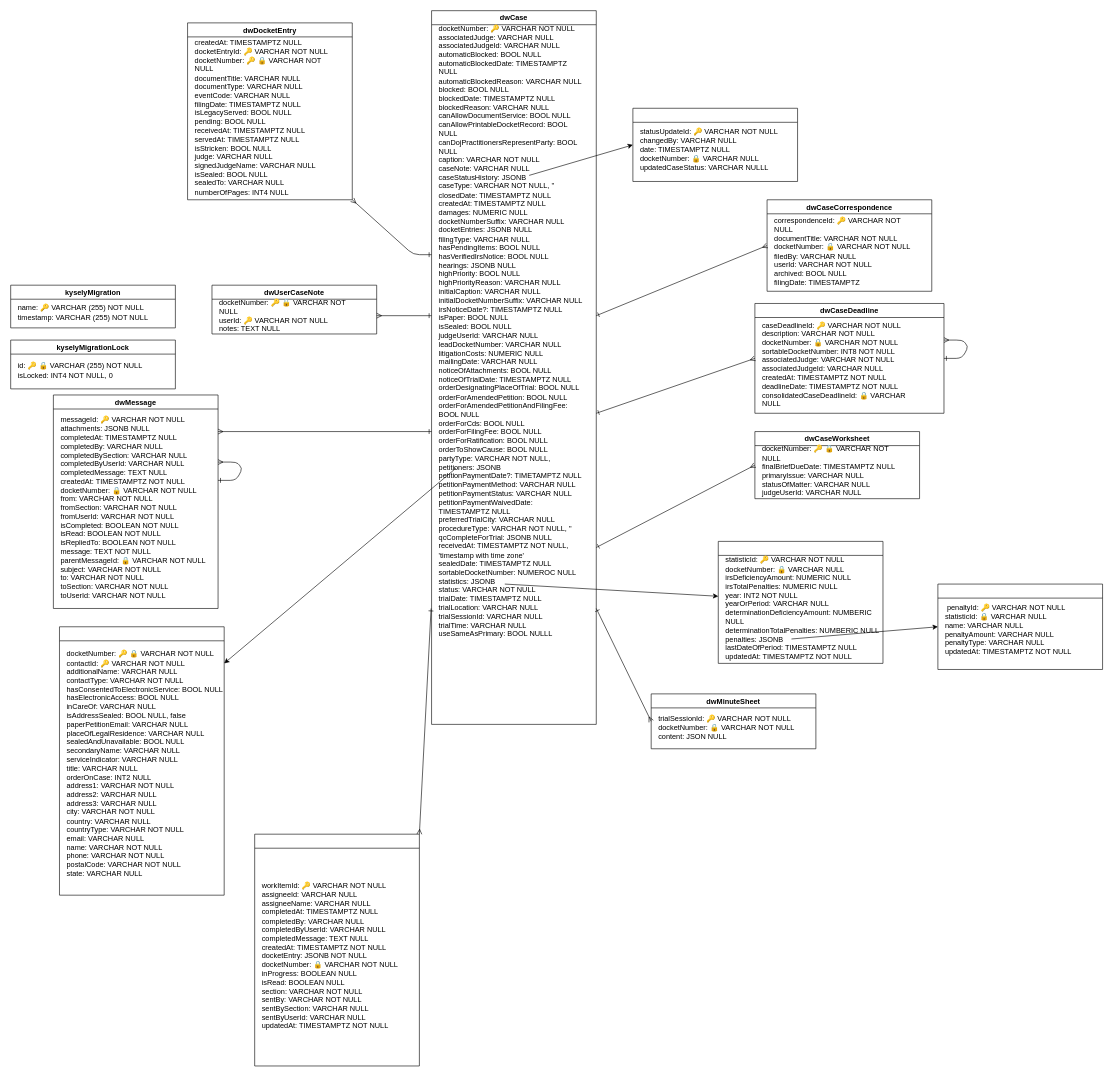
Some shapes in this 1113 by 1077 pixel diagram are drawn without their labels. Each missing label, with the box of its shape:
caseStatusHistory jsonb "schema": (632, 108, 798, 181)
dwWorkItem: (254, 834, 419, 1066)
penalties jsonb "schema": (937, 583, 1103, 669)
petitioners jsonb "schema": (59, 626, 224, 895)
statistic jsonb "schema": (718, 541, 883, 663)
